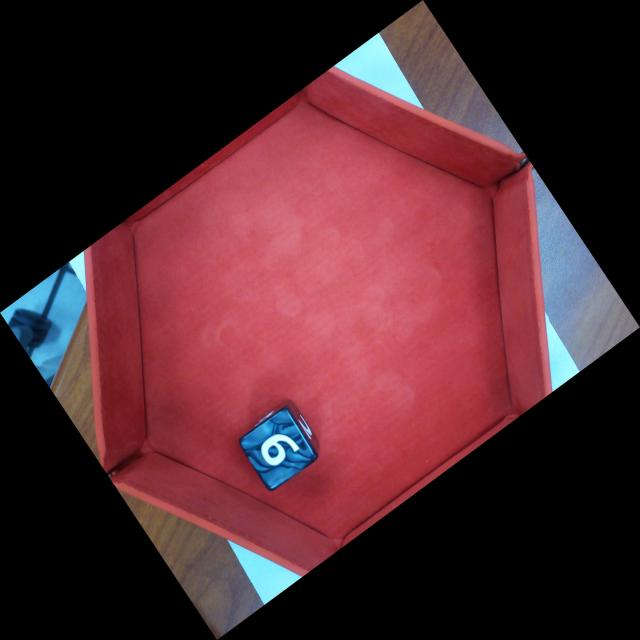dice: (247, 412, 313, 485)
